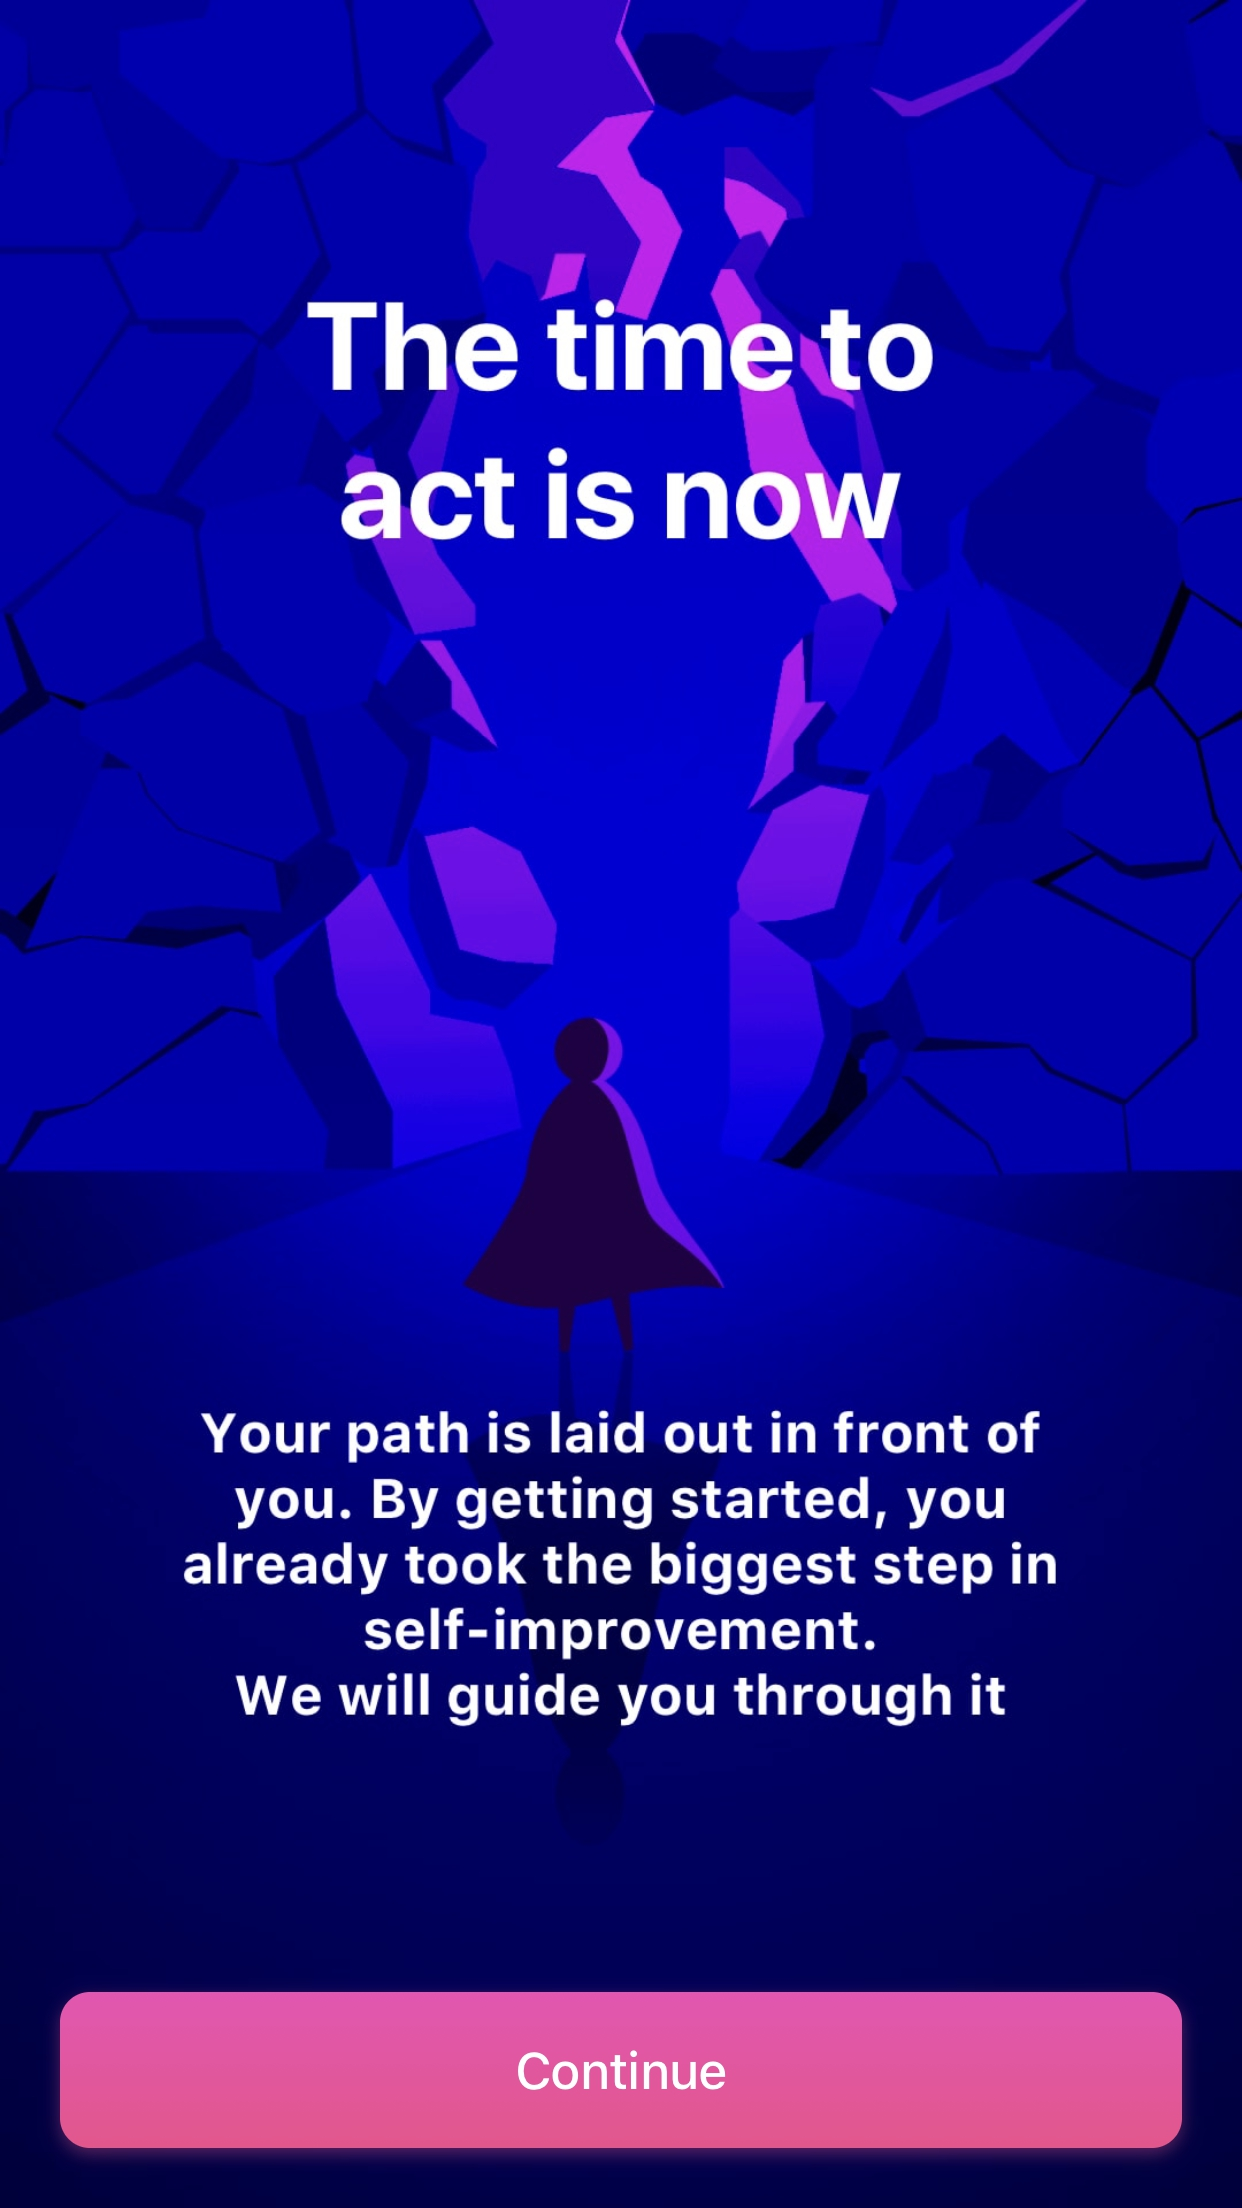BackgroundImage: (2, 2, 1242, 2208)
Text: (182, 1410, 1057, 1727), (306, 299, 934, 541)
TextButton: (61, 1991, 1183, 2149)
